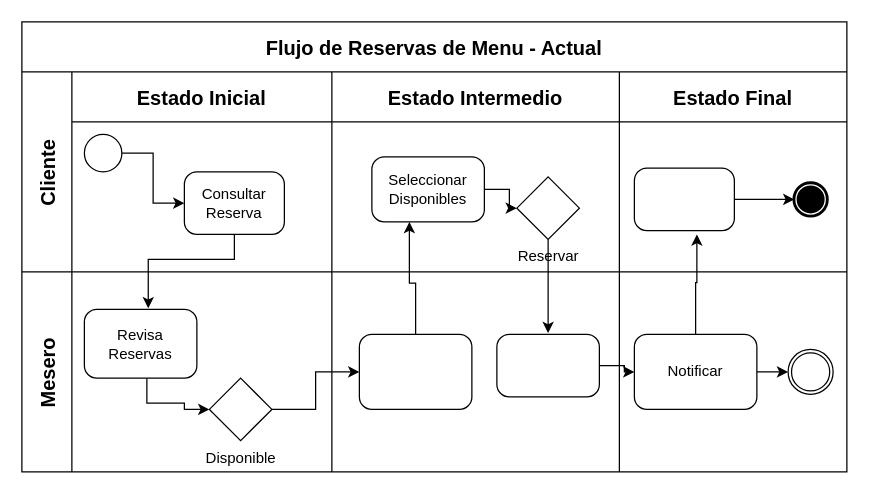
Image size: 869x494. Some labels were removed from this diagram. Each missing label, with the centre of its shape:
"Aceptar" goes at [683,199].
"Informar Opciones" goes at [415,371].
"Ingresar Reserva" goes at [547,365].
